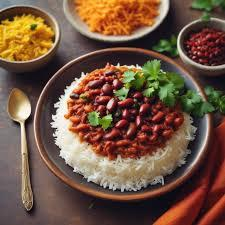rajma: (71, 73, 175, 137)
rice: (63, 155, 190, 187)
